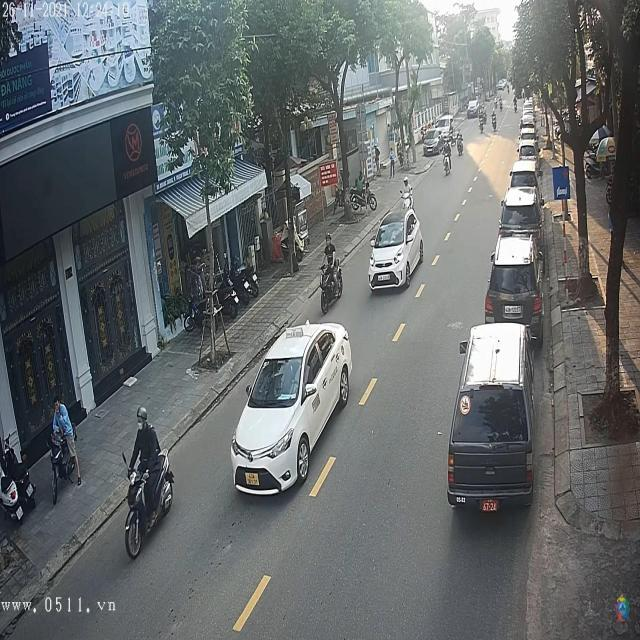car: (229, 321, 354, 497), (449, 326, 534, 510), (485, 235, 543, 330), (369, 212, 426, 294), (424, 126, 446, 155)
motorcycle: (124, 451, 176, 562), (320, 259, 345, 316)
